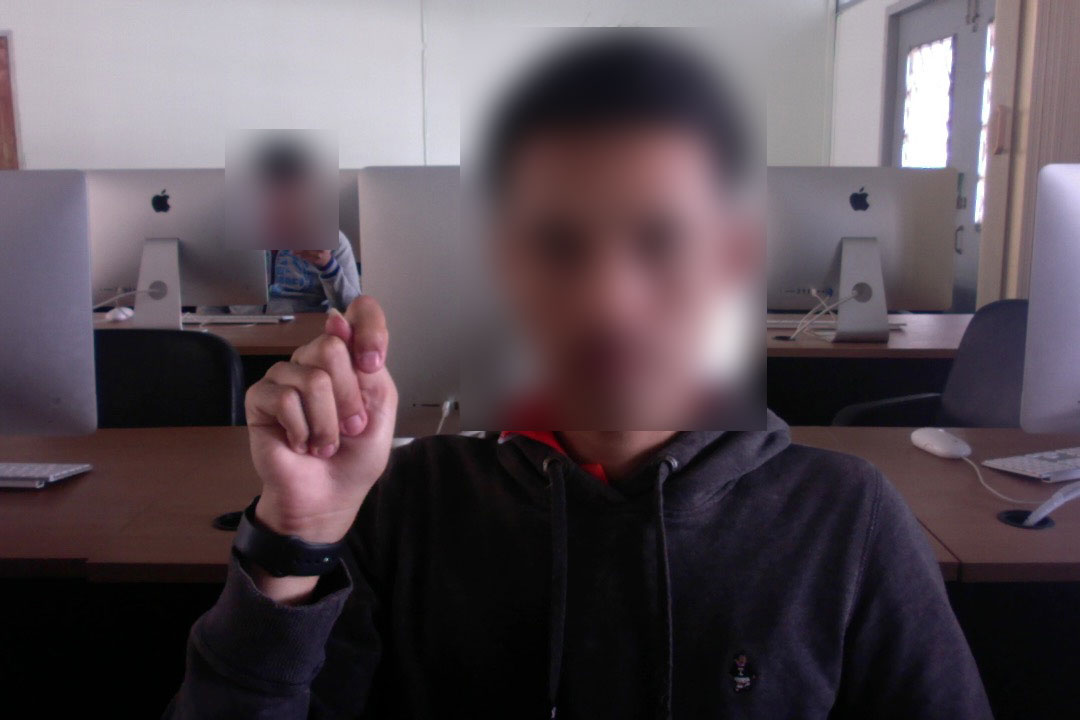tor: (239, 294, 403, 530)
